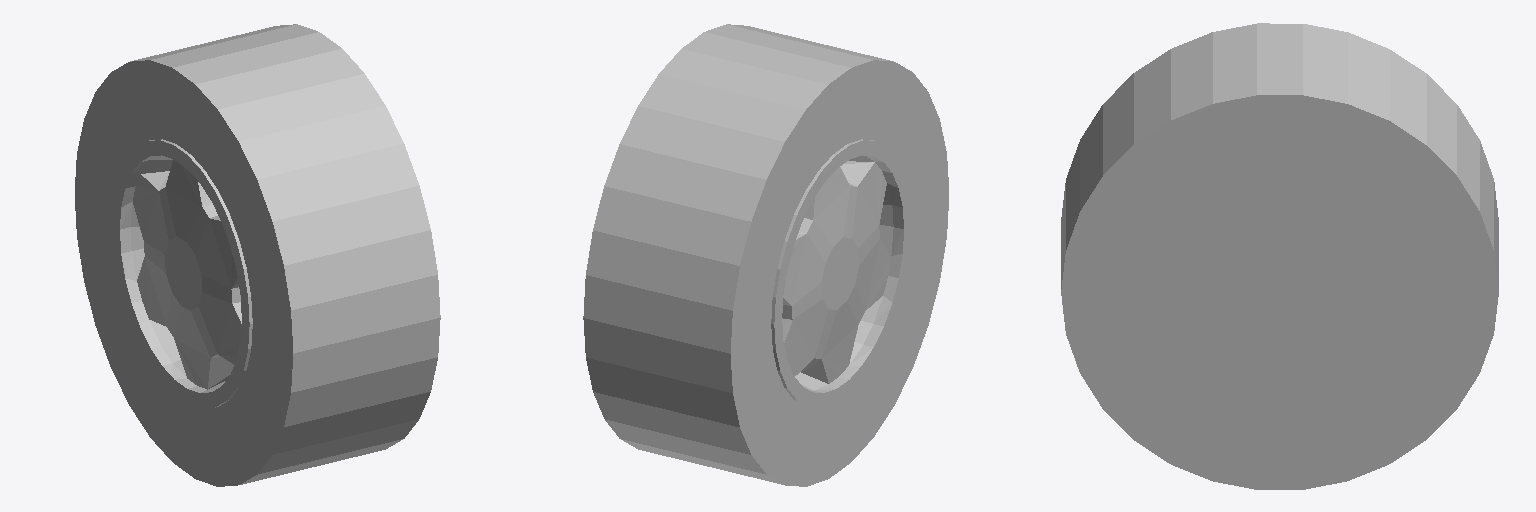
Rendered from wheel_bouncy.obj.
3 views of the same model, side by side, from view 1: azimuth 30°, elevation 25°; view 2: azimuth 150°, elevation 25°; view 3: azimuth 270°, elevation 25° (orthographic).
Parts seen in each view (by area): view 1: wheel_fr_Circle.161_BASIC_COLOR; view 2: wheel_fr_Circle.161_BASIC_COLOR; view 3: wheel_fr_Circle.161_BASIC_COLOR.
Part boxes in pixels (bbox=[...]): wheel_fr_Circle.161_BASIC_COLOR: bbox=[75, 24, 440, 486]; wheel_fr_Circle.161_BASIC_COLOR: bbox=[583, 24, 948, 486]; wheel_fr_Circle.161_BASIC_COLOR: bbox=[1061, 23, 1498, 489].
Bounding box in the file's own units: 0.2575 × 0.6463 × 0.6498.